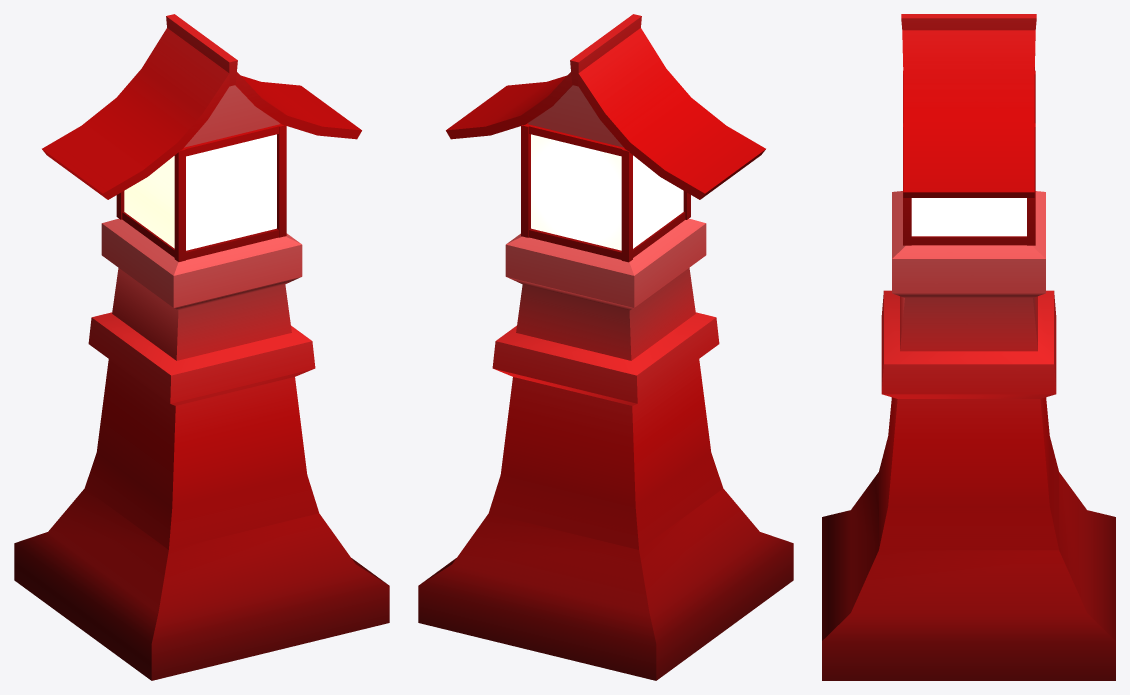
Rendered from TRF0610006.fbx.
The picture shows the model from 3 angles, left to right: view 1: azimuth 30°, elevation 25°; view 2: azimuth 150°, elevation 25°; view 3: azimuth 270°, elevation 25°; orthographic projection. The views are drawn at different scales.
Parts seen in each view (by area): view 1: smTRF0610006; view 2: smTRF0610006; view 3: smTRF0610006.
Boxes of the visible parts, <box> form: smTRF0610006: <box>14,14,389,680</box>; smTRF0610006: <box>418,14,793,680</box>; smTRF0610006: <box>822,14,1115,680</box>.
Bounding box in the file's own units: 365 × 758 × 335.
1 material, 1 textured.
